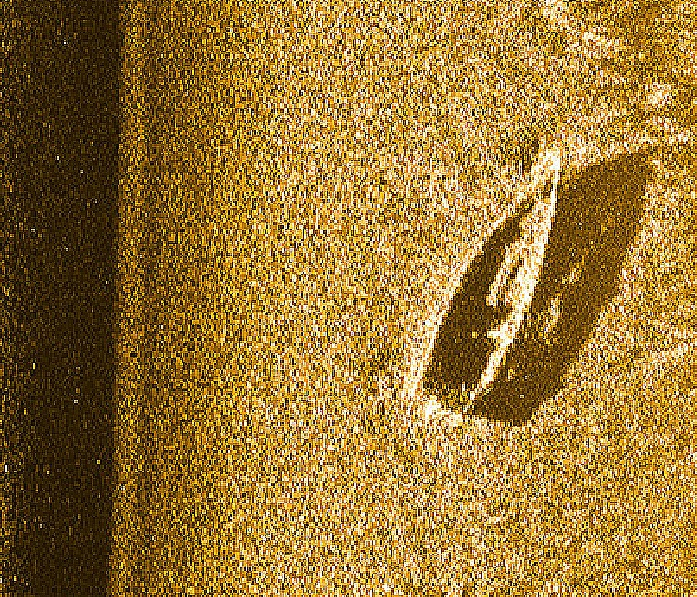ship: (399, 147, 562, 432)
